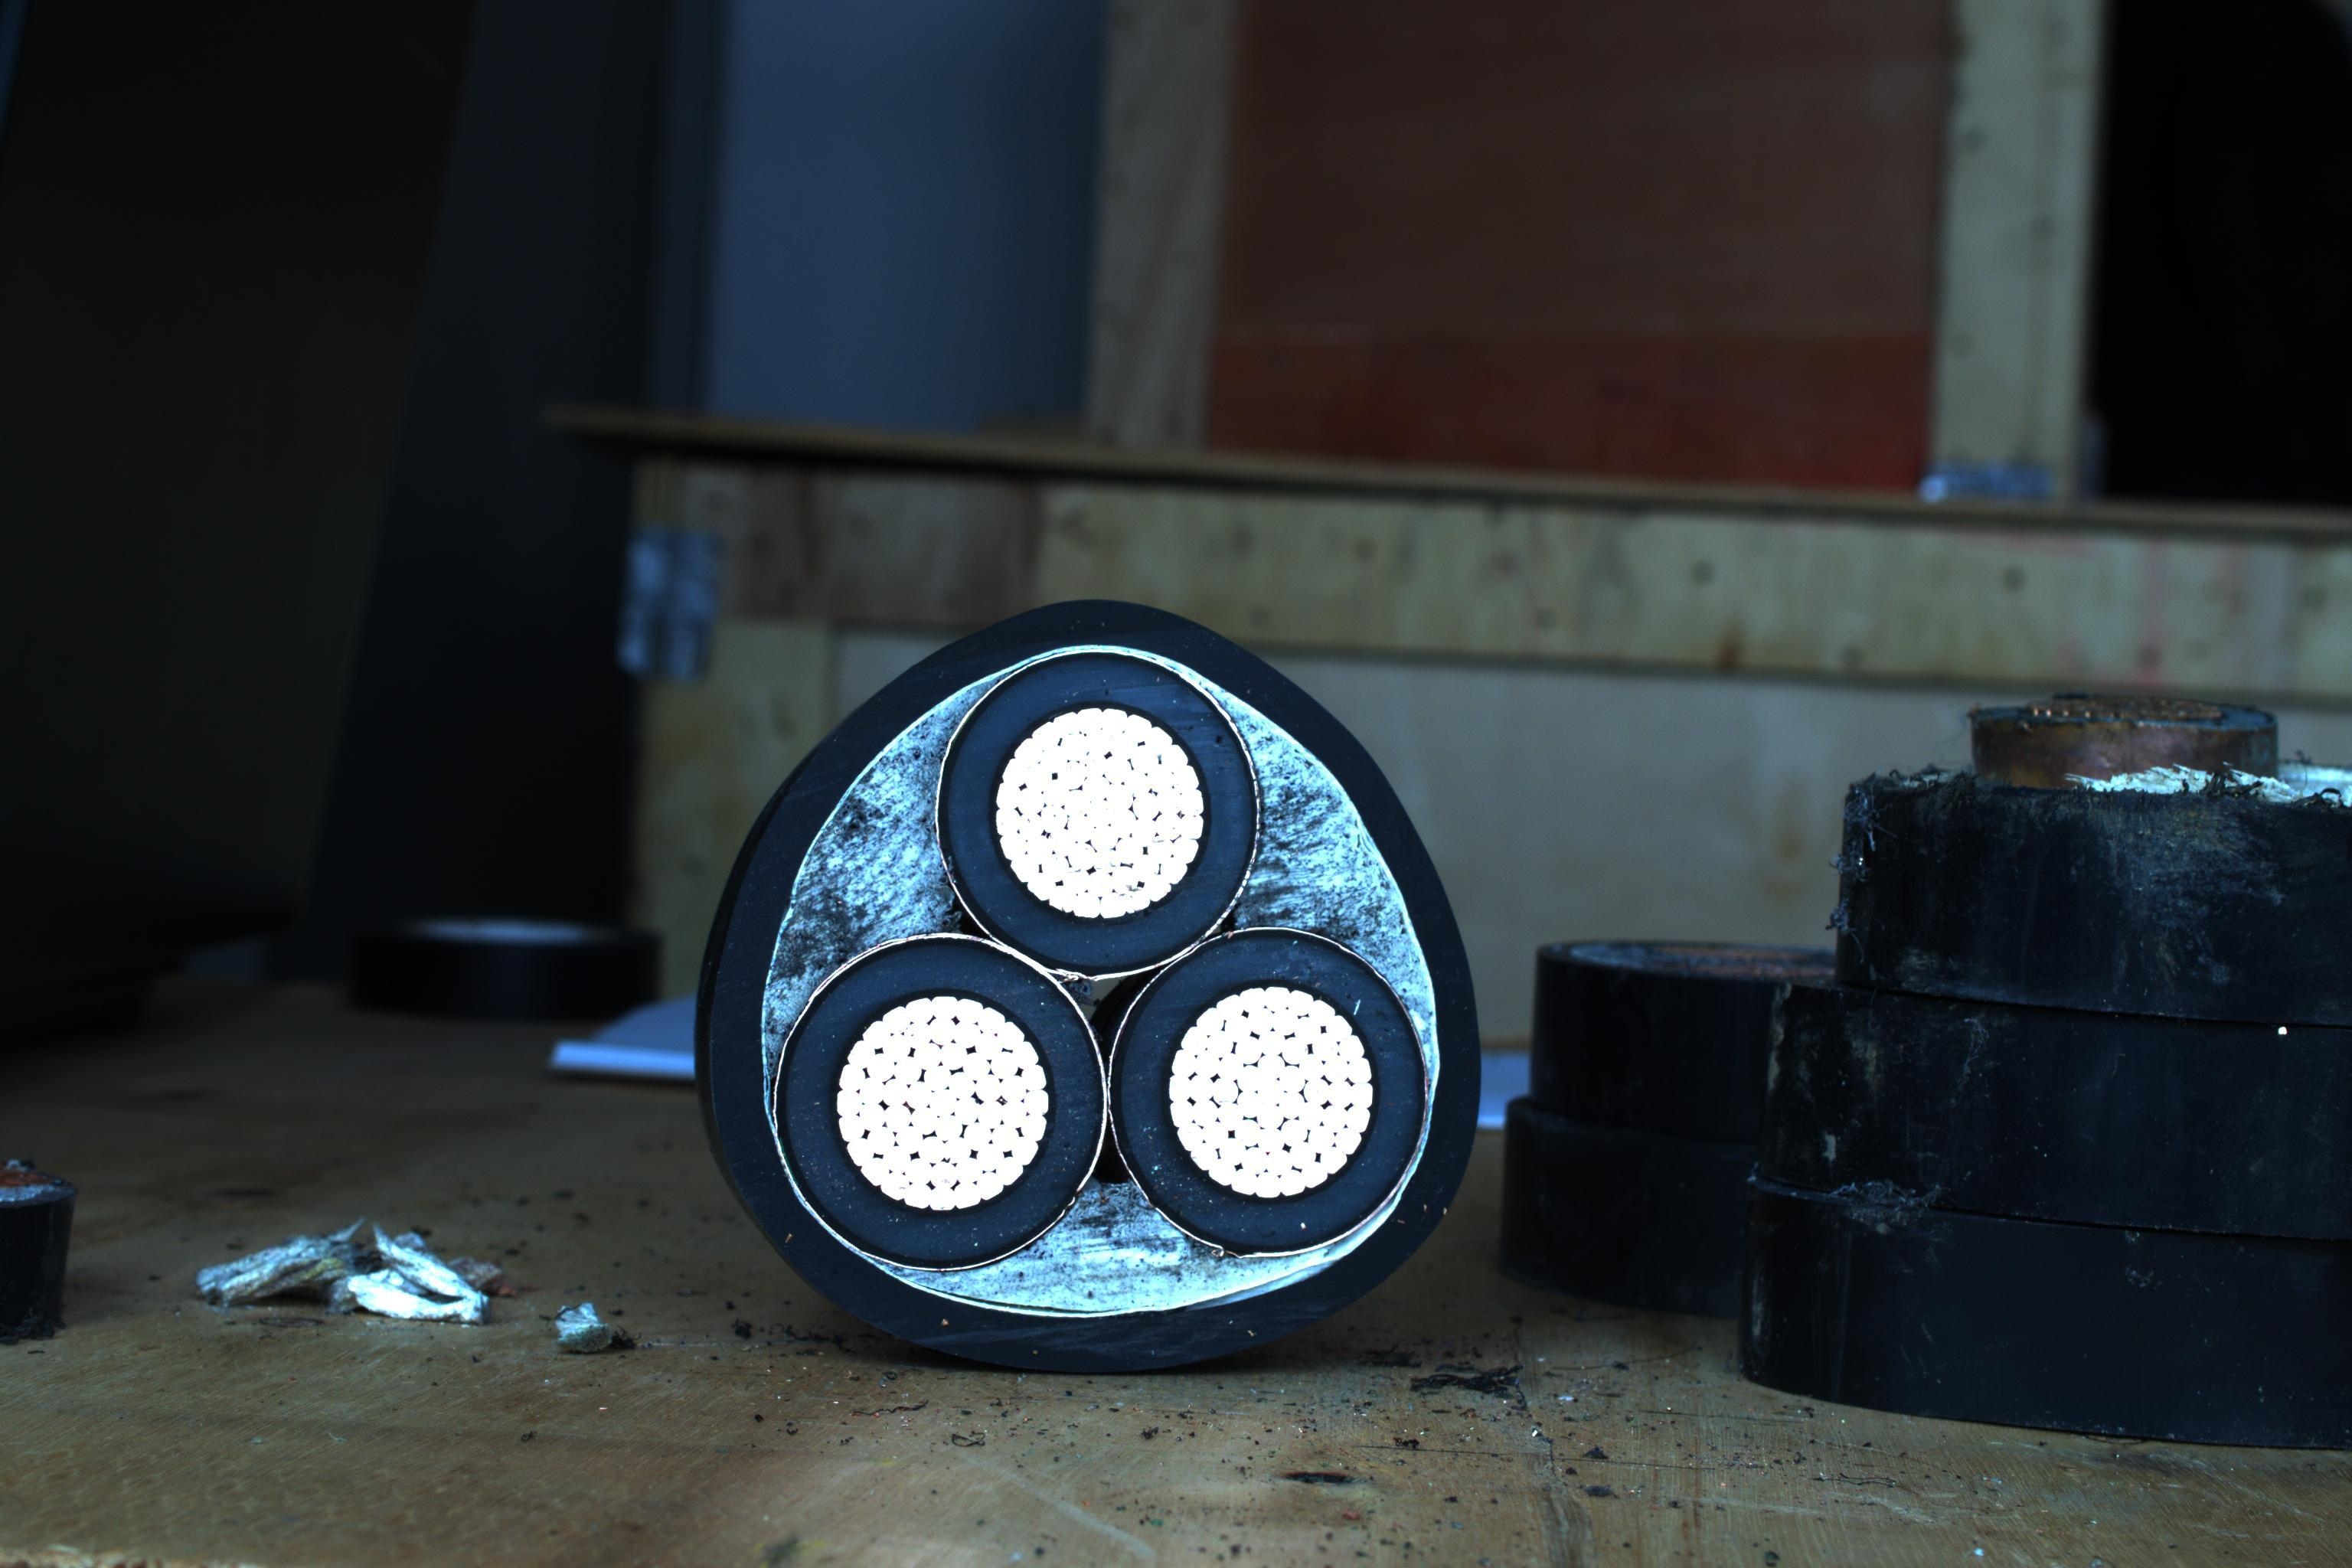ZA_YJV_8.7_10kV_3x400: (730, 611, 1477, 1347)
